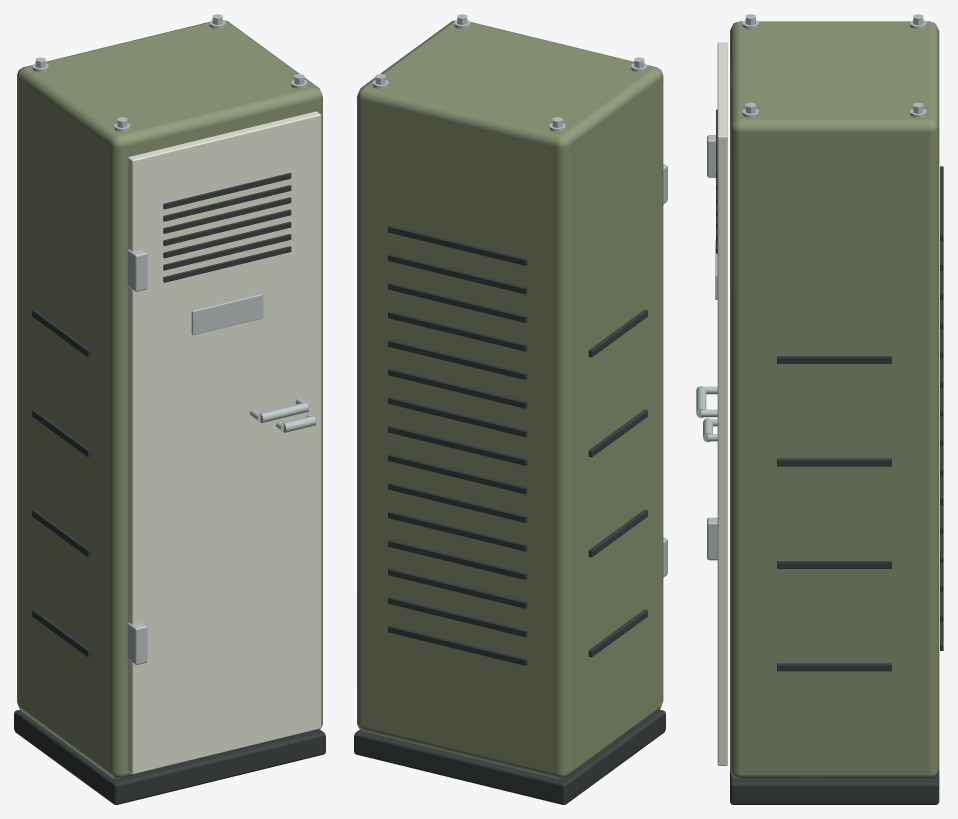
Rendered from mountain-border-checkpoint-mountain-border-checkpoint--3f7a2298__30332.glb.
3 renders of one model, left to right at view 1: azimuth 30°, elevation 25°; view 2: azimuth 150°, elevation 25°; view 3: azimuth 270°, elevation 25°, orthographic. The views are drawn at different scales.
Parts seen in each view (by area): view 1: mountain-border-checkpoint-staff-locker; view 2: mountain-border-checkpoint-staff-locker; view 3: mountain-border-checkpoint-staff-locker.
Boxes of the visible parts, bbox=[...] form: mountain-border-checkpoint-staff-locker: bbox=[14, 14, 325, 804]; mountain-border-checkpoint-staff-locker: bbox=[354, 14, 667, 804]; mountain-border-checkpoint-staff-locker: bbox=[696, 14, 943, 804].
Bounding box in the file's own units: 0.6221 × 1.83 × 0.5905.
